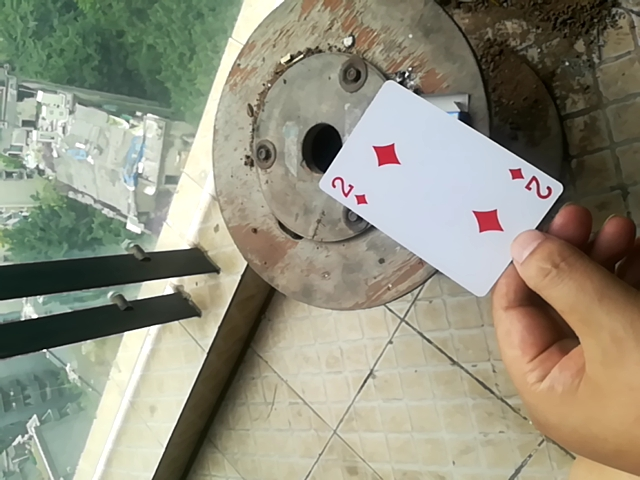fk 2: (307, 79, 567, 302)
